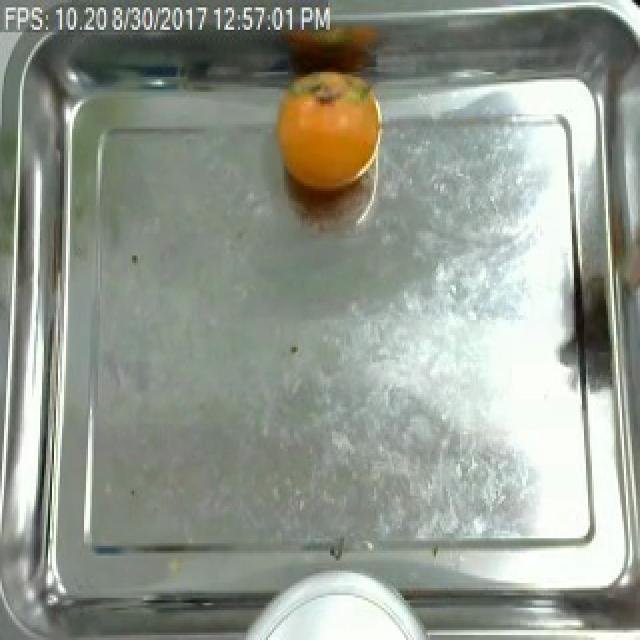Fruit: (270, 62, 390, 198)
